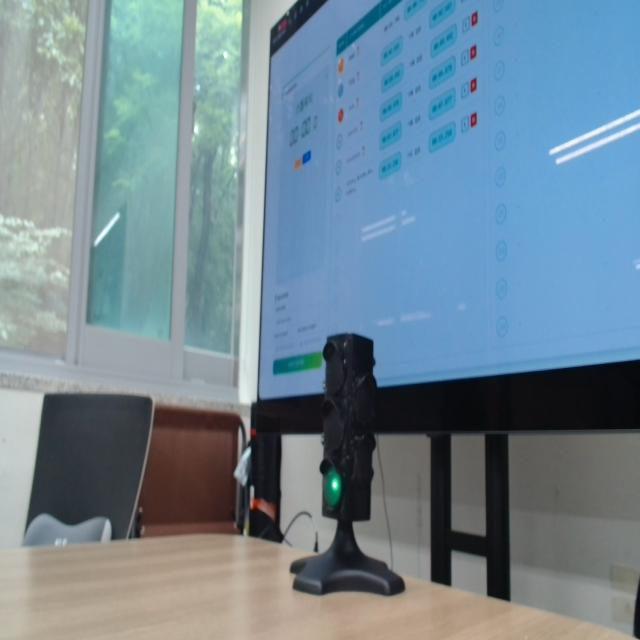green_light: (323, 469, 342, 509)
